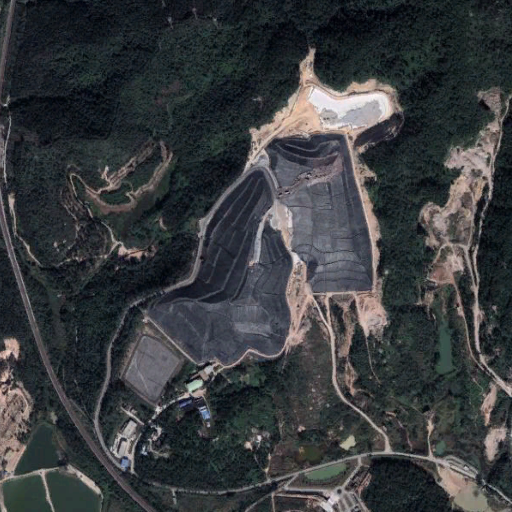lf: (146, 167, 295, 367), (270, 131, 373, 295)
